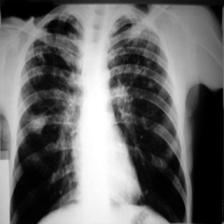tuberculosis: (1, 7, 190, 224)
